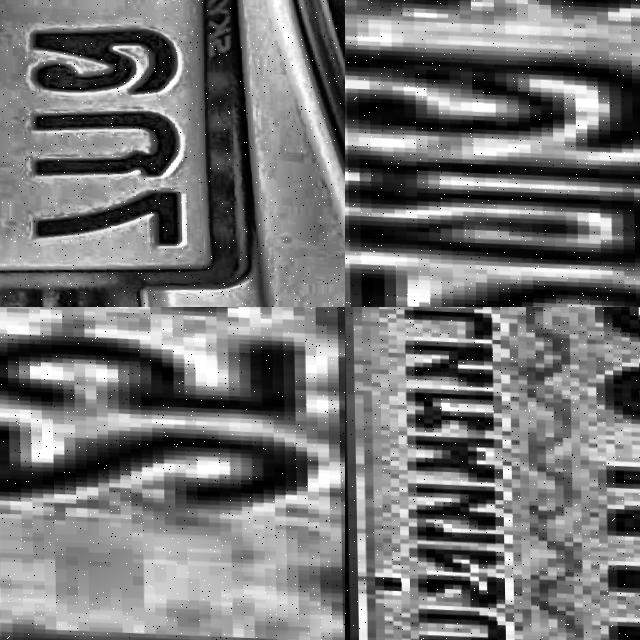license-plate: (0, 307, 345, 640), (345, 307, 640, 640), (345, 0, 640, 307), (0, 0, 290, 307)
